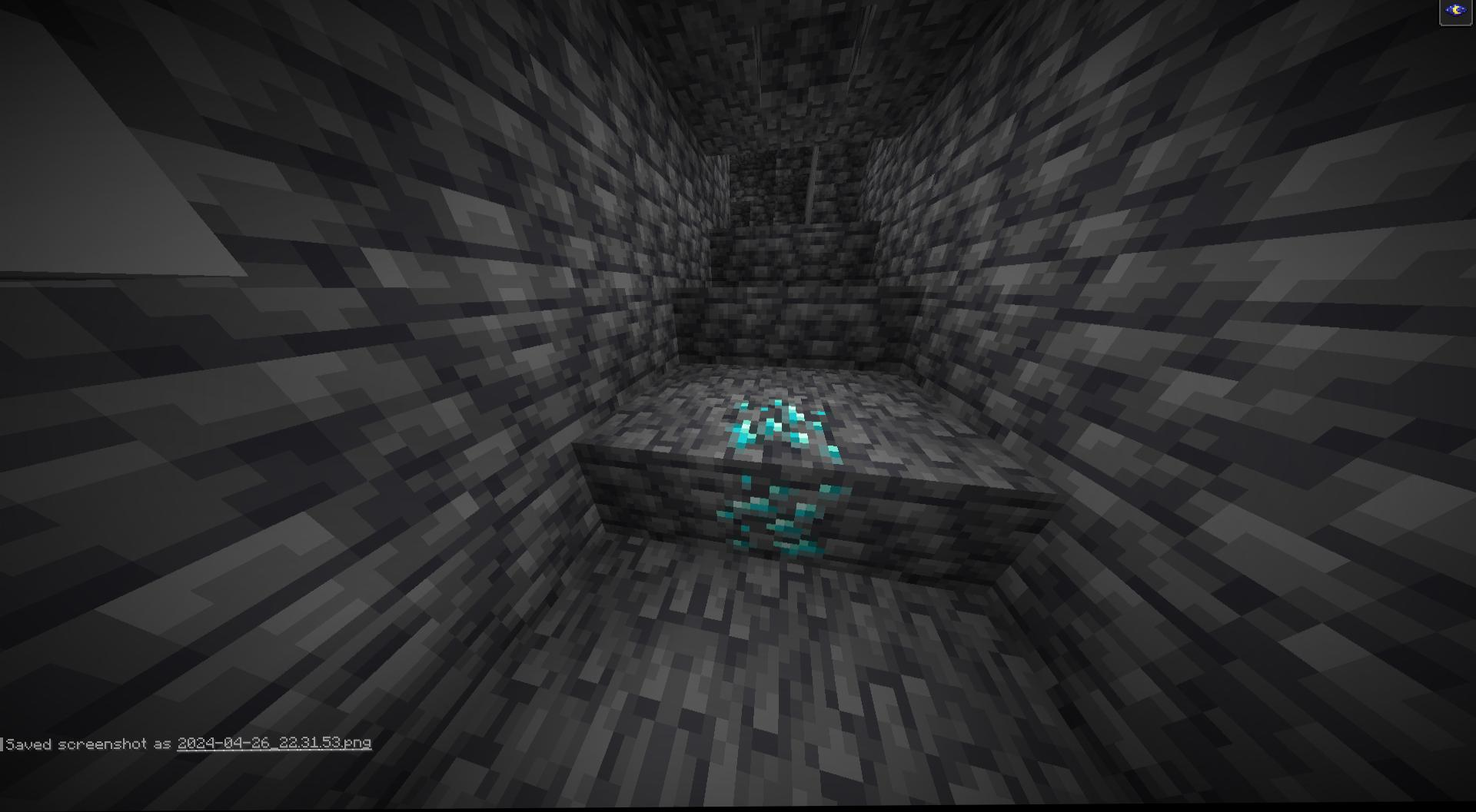diamond ore: (720, 401, 852, 493), (714, 484, 853, 557)
